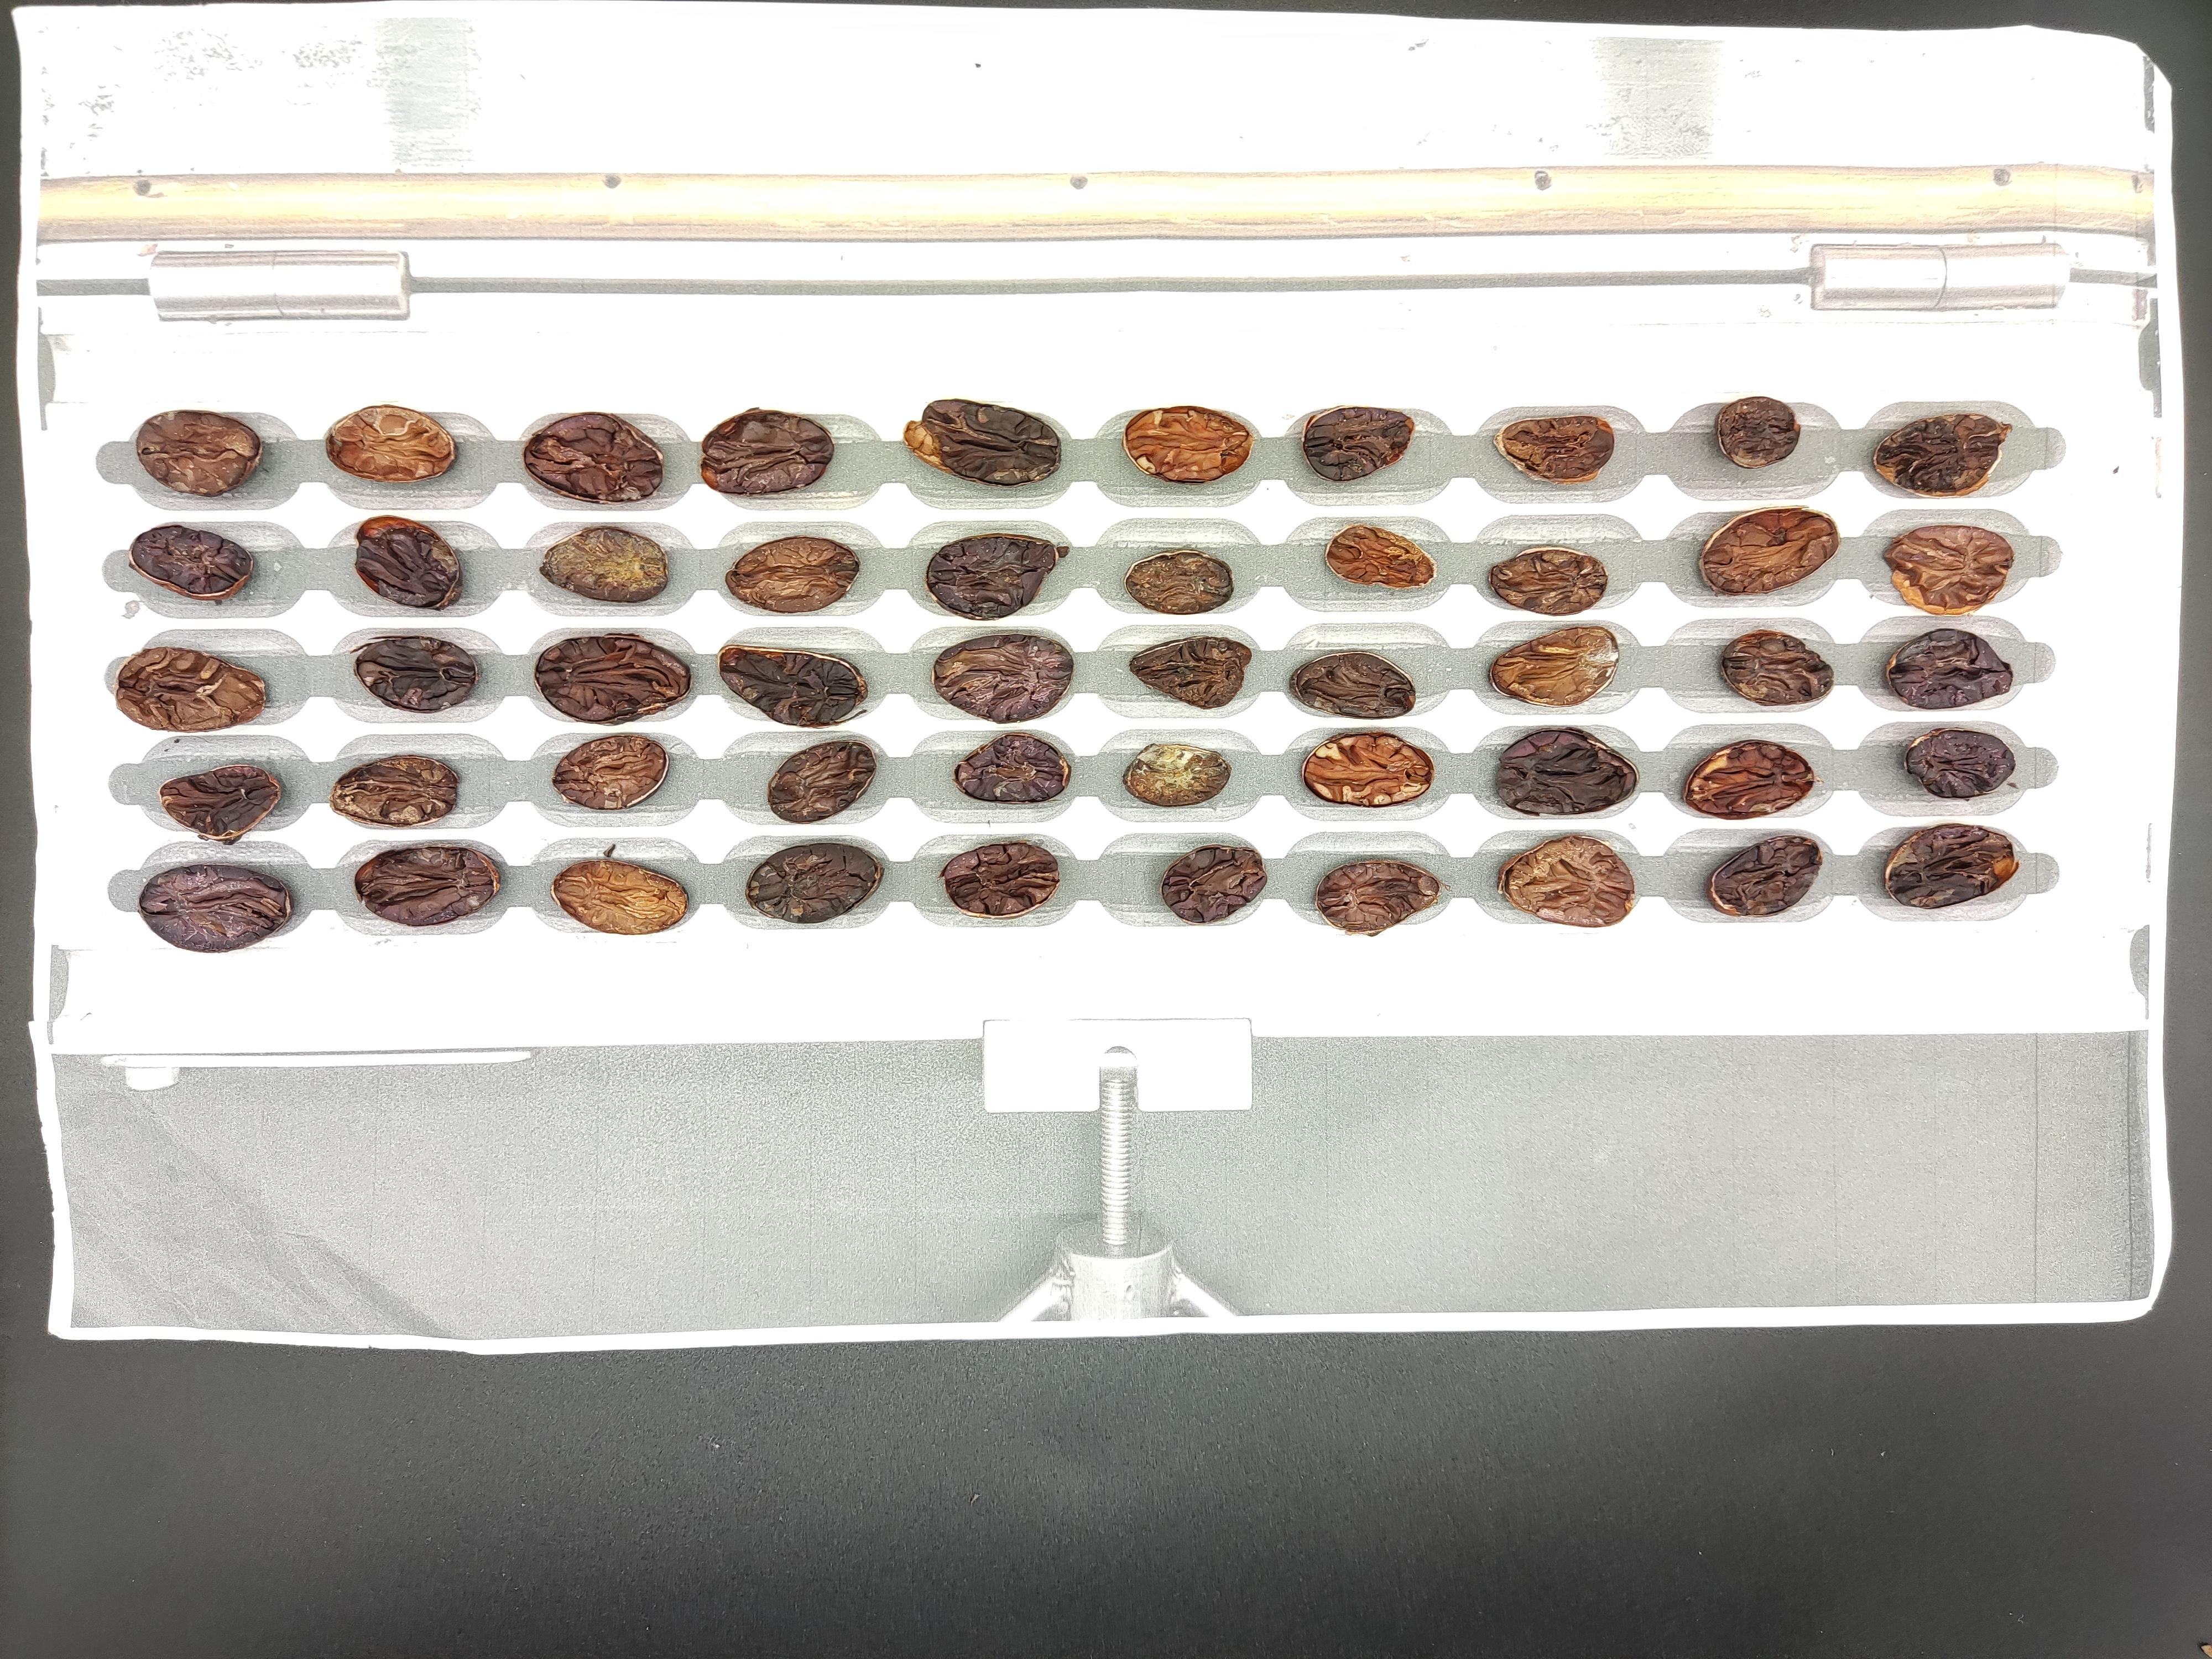Brown - G1: (268, 1133, 357, 1187), (961, 1075, 1035, 1129), (859, 1187, 935, 1236), (573, 1016, 646, 1065), (165, 1192, 239, 1239), (665, 1183, 737, 1229), (759, 1086, 827, 1129), (678, 1077, 738, 1115)
Brown - G2: (763, 1236, 843, 1290), (57, 1138, 143, 1188), (164, 1014, 239, 1061), (671, 1246, 742, 1295), (575, 1133, 648, 1178), (279, 1187, 347, 1232)
Brown - G3: (866, 1066, 948, 1119), (66, 1016, 141, 1068), (368, 1080, 444, 1129), (277, 1248, 357, 1293), (761, 1019, 833, 1065)
Brown - G4: (575, 1089, 636, 1129)
Insect-damaged: (273, 1077, 348, 1122)
Mouldy: (761, 1127, 833, 1176), (571, 1187, 634, 1227)
Partly Purple - G1: (765, 1180, 845, 1232), (479, 1237, 545, 1284)
Partly Purple - G2: (364, 1136, 449, 1187), (475, 1133, 554, 1185), (178, 1241, 261, 1290), (357, 1016, 434, 1068), (960, 1229, 1036, 1279), (871, 1236, 935, 1286), (589, 1239, 655, 1288), (664, 1012, 728, 1061)
Total Purple - G2: (963, 1131, 1036, 1180), (486, 1183, 554, 1225)
Total Purple - G3: (68, 1251, 153, 1303), (470, 1079, 552, 1129), (64, 1077, 138, 1124), (972, 1180, 1035, 1225)
Very Dark Brown - G1: (460, 1012, 550, 1063), (956, 1014, 1033, 1068), (181, 1072, 240, 1126)
Very Dark Brown - G2: (260, 1018, 343, 1077), (172, 1133, 249, 1180), (77, 1197, 150, 1244), (388, 1185, 456, 1236), (878, 1129, 942, 1176)
Very Dark Brown - G3: (378, 1239, 456, 1288), (657, 1140, 728, 1182), (871, 1009, 925, 1054)
